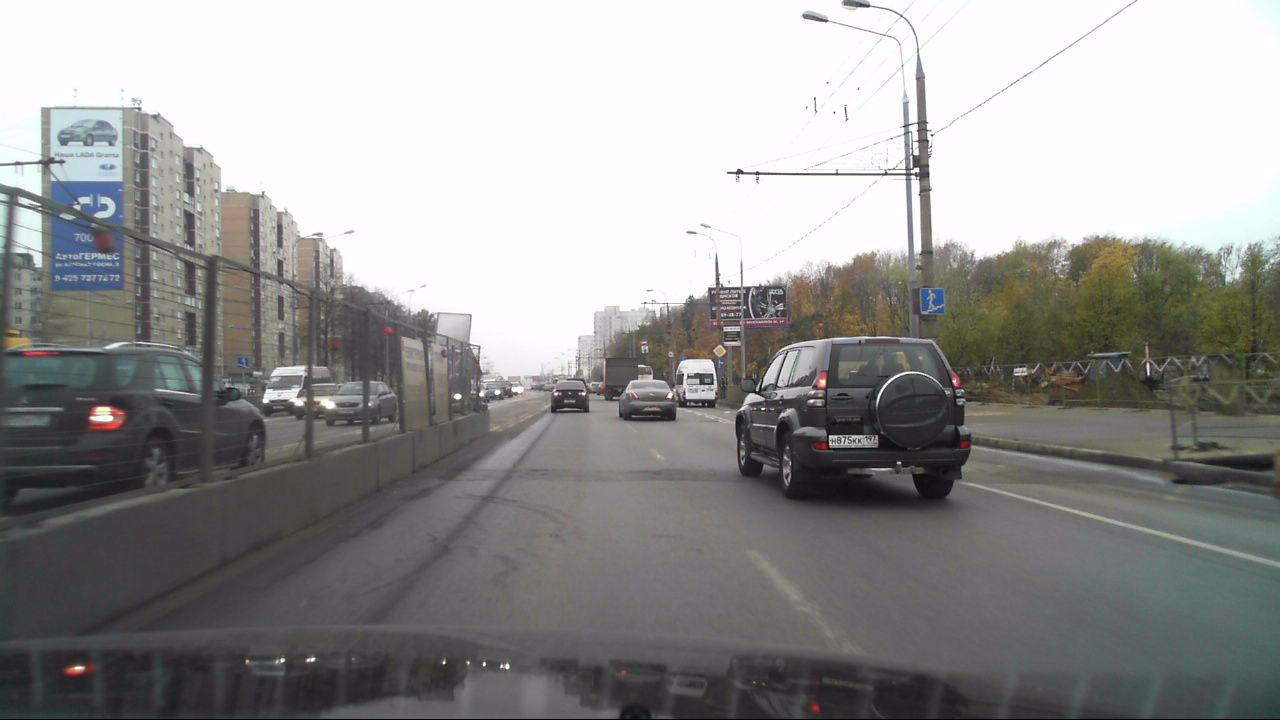2_1: (713, 344, 726, 356)
3_1: (640, 339, 648, 346)
4_1_4: (714, 357, 725, 368)
5_14_1: (680, 354, 688, 361)
6_6: (919, 288, 944, 315)
8_14: (641, 349, 649, 353)
8_5_2: (641, 346, 648, 350)
